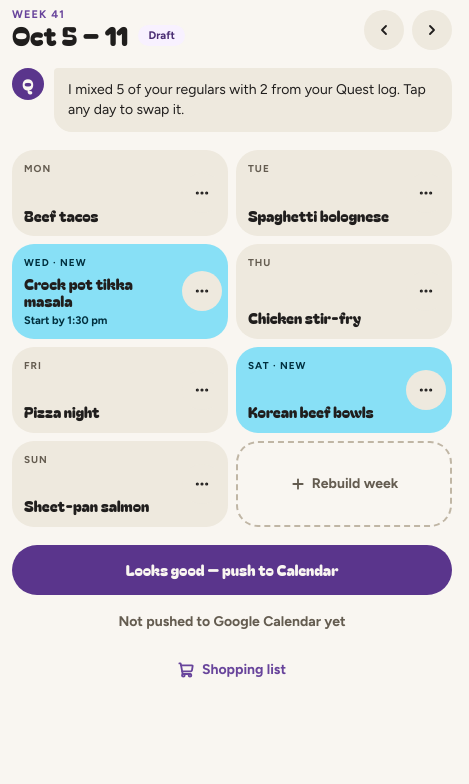
Test: PlanPage › marks the Google Calendar connection to be read again when Google refused the grant
The width and height of the screenshot is (469, 784).
Click the button "Looks good — push to Calendar". click: coordinates (232, 570)
box: [12,545,452,595]
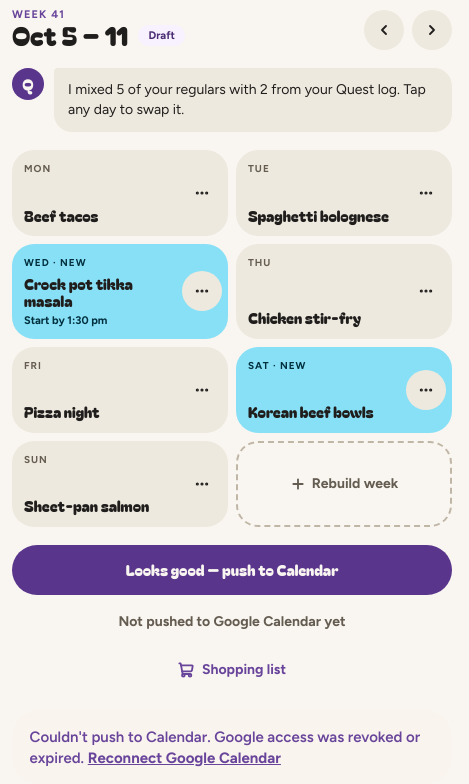
Expected: the link "Reconnect Google Calendar" is shown, [88,748,281,766]
